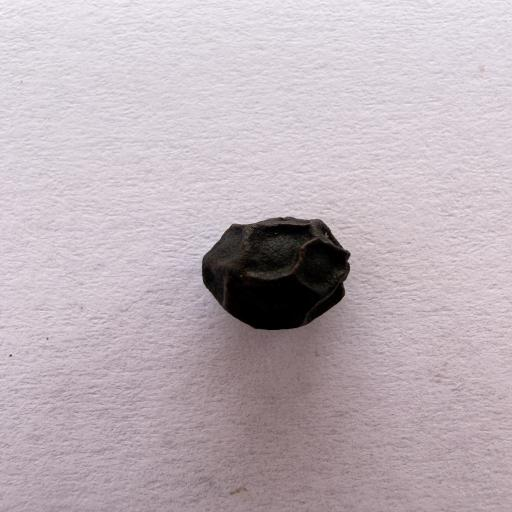Black_pepper: (96, 160, 458, 387)
